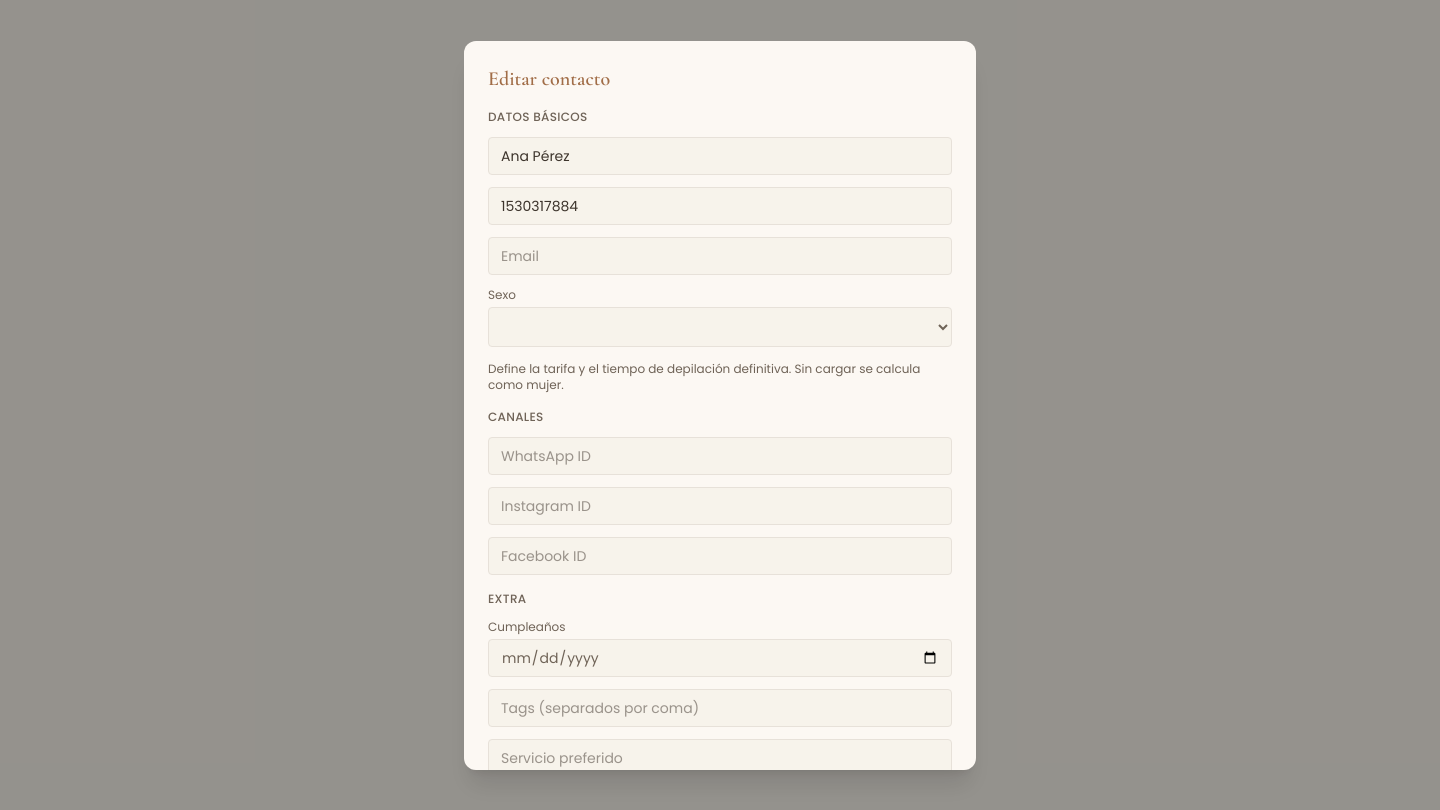
ContactFormModal — aviso del número › si el teléfono basura se edita, avisa
Type "5" into the 2nd field with placeholder "Teléfono" at (720,206), box [488,186,952,224]
(page scrolled)
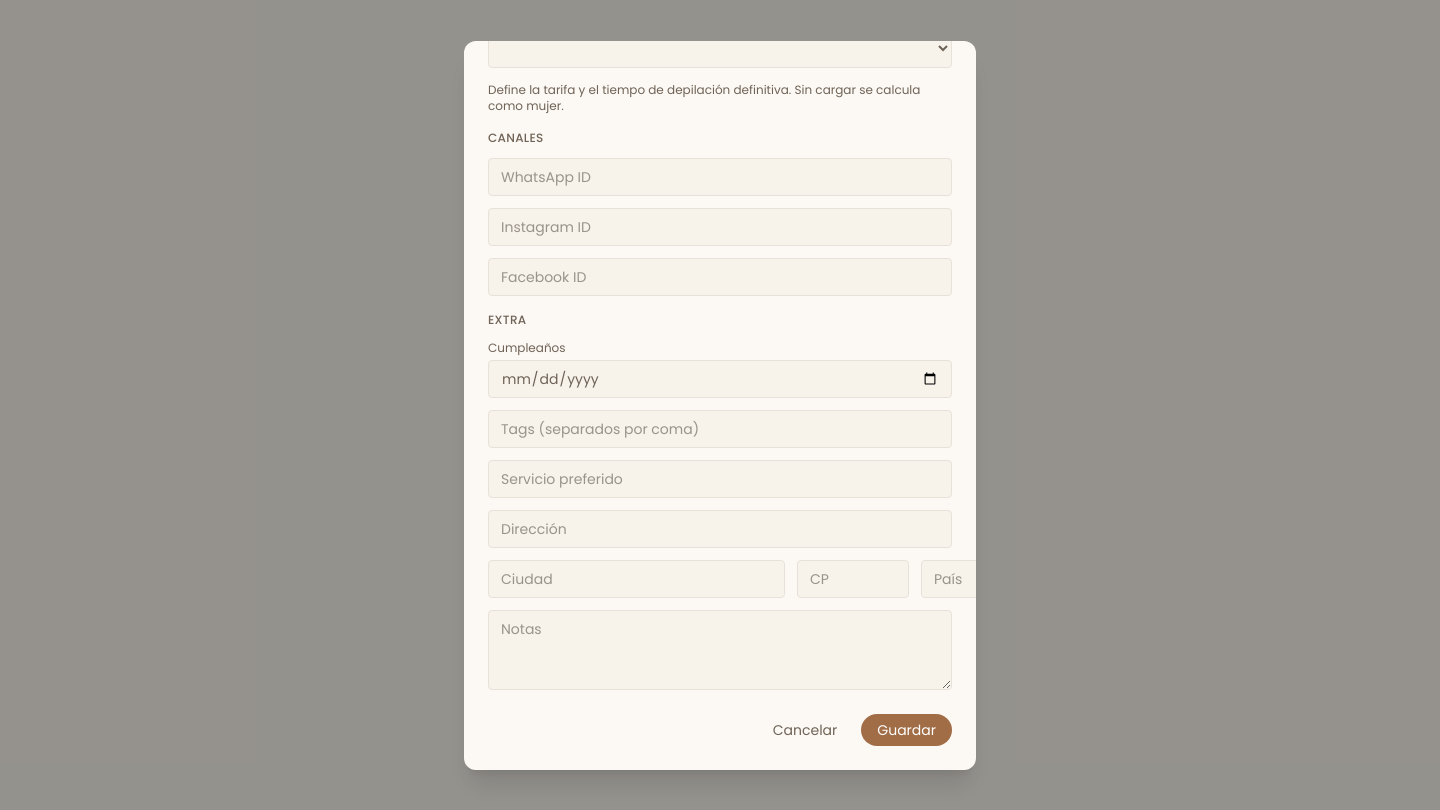
Click the button "Guardar" at (907,730), box [861,714,952,746]
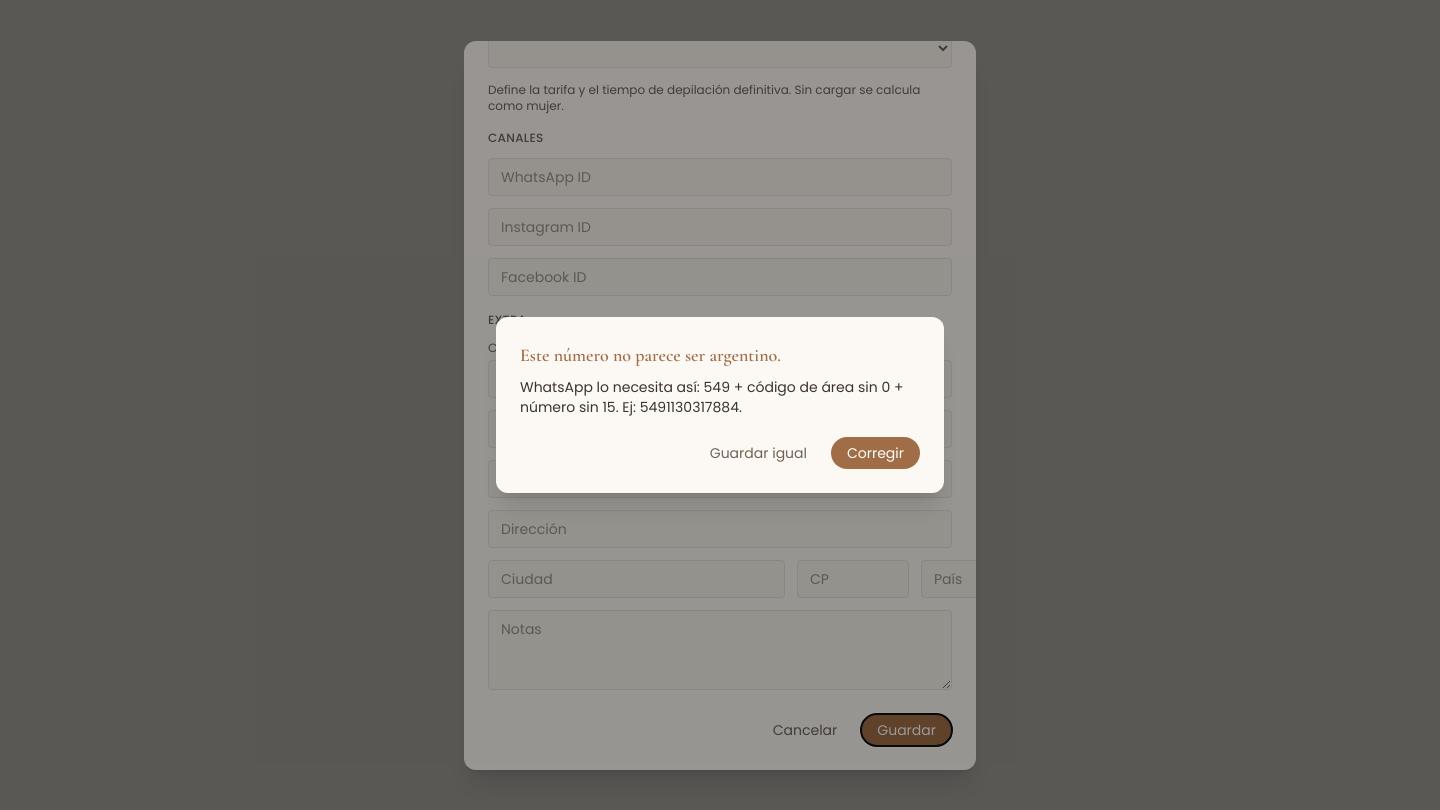
expect the text "WhatsApp lo necesita así: 549 + código de área sin 0 + número sin 15. Ej: 5491130317884." is shown: met, box [520,377,904,417]
